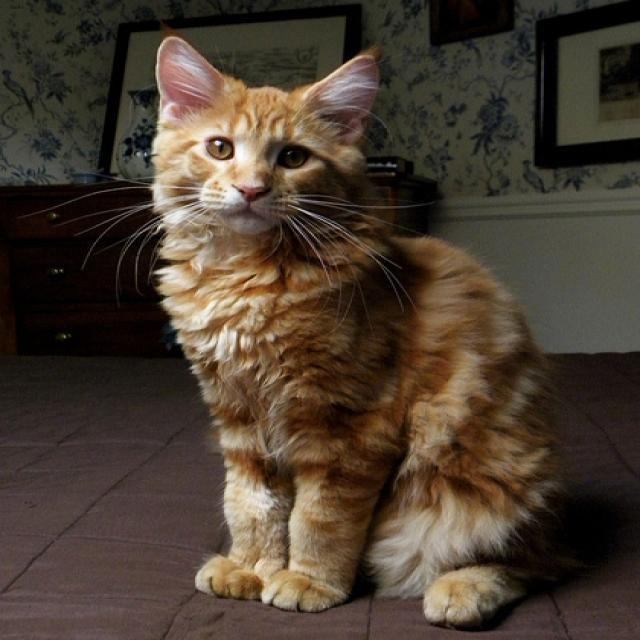Maine_Coon: (154, 35, 378, 232)
